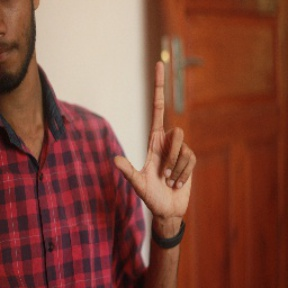L: (110, 62, 205, 213)
